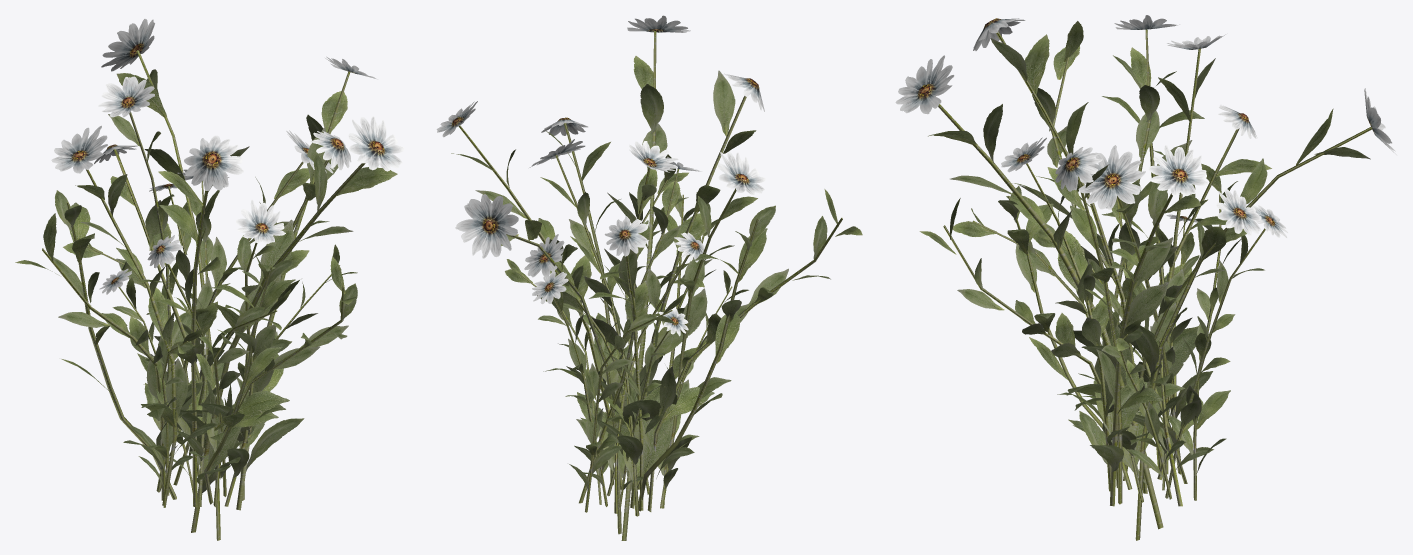
File: sm_DaisyFlowers_01_09.fbx
The picture shows the model from 3 angles, left to right: view 1: azimuth 30°, elevation 25°; view 2: azimuth 150°, elevation 25°; view 3: azimuth 270°, elevation 25°; orthographic projection. The views are drawn at different scales.
Parts seen in each view (by area): view 1: sm_DaisyFlowers_01_09; view 2: sm_DaisyFlowers_01_09; view 3: sm_DaisyFlowers_01_09.
Part boxes in pixels (box(x1,y1,x2,y2)): sm_DaisyFlowers_01_09: box(15, 19, 404, 540); sm_DaisyFlowers_01_09: box(436, 15, 862, 540); sm_DaisyFlowers_01_09: box(895, 15, 1396, 540).
Bounding box in the file's own units: 39.51 × 39.85 × 44.35.
